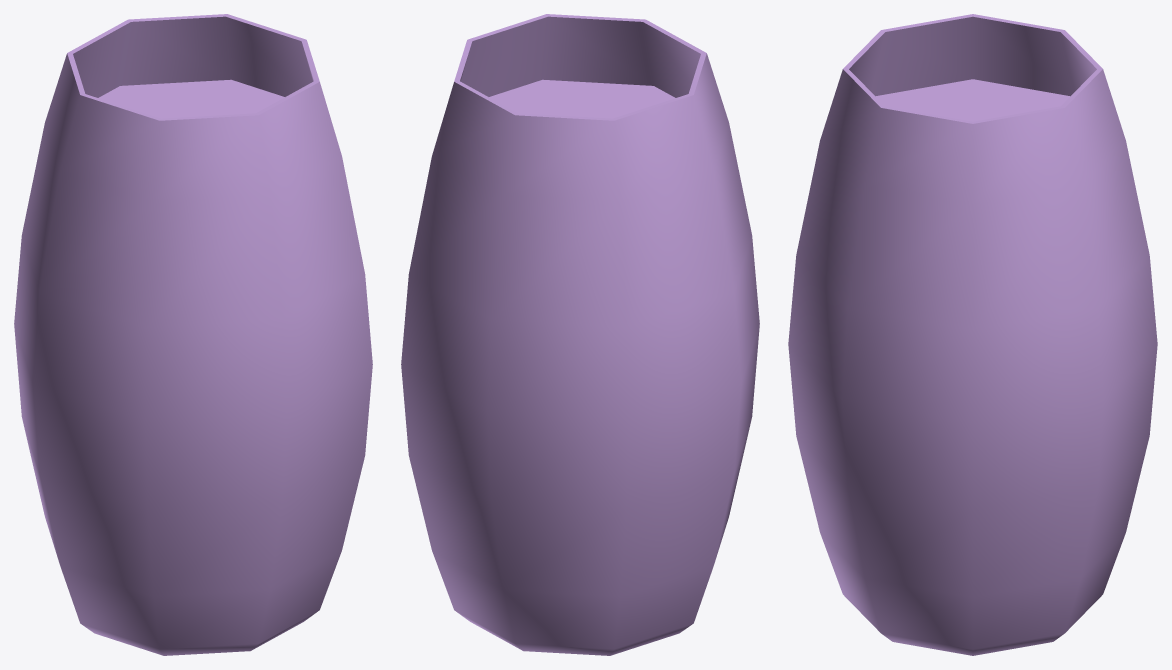
The model's file is Friday_FlowerPot.fbx.
3 renders of one model, left to right at view 1: azimuth 30°, elevation 25°; view 2: azimuth 150°, elevation 25°; view 3: azimuth 270°, elevation 25°, orthographic.
Visible parts, largest first — view 1: pCylinder3; view 2: pCylinder3; view 3: pCylinder3.
Boxes of the visible parts, left/top/right/bottom form: pCylinder3: left=14, top=14, right=372, bottom=655; pCylinder3: left=401, top=14, right=759, bottom=655; pCylinder3: left=788, top=14, right=1157, bottom=655.
Size of the model in its own units: 2.61 by 4.2 by 2.61.
